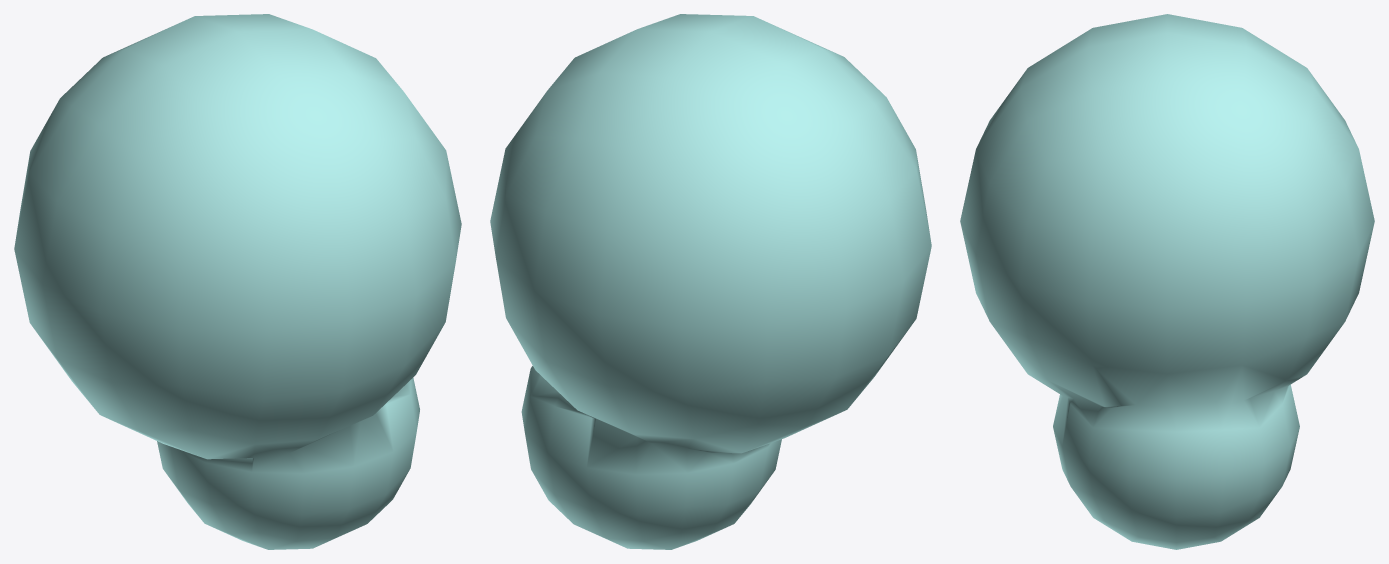
The model's file is eff_foam_strayfoam02.fbx.
3 views of the same model, side by side, from view 1: azimuth 30°, elevation 25°; view 2: azimuth 150°, elevation 25°; view 3: azimuth 270°, elevation 25° (orthographic). The views are drawn at different scales.
Visible parts, largest first — view 1: foamSphere.001; view 2: foamSphere.001; view 3: foamSphere.001.
Part boxes in pixels (bbox=[...]): foamSphere.001: bbox=[14, 14, 461, 549]; foamSphere.001: bbox=[490, 14, 931, 549]; foamSphere.001: bbox=[960, 14, 1374, 549].
Size of the model in its own units: 1.08 by 1.39 by 1.08.
